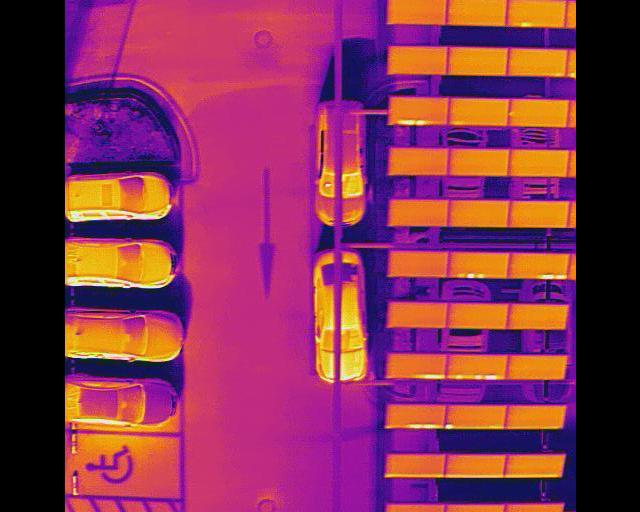Cell: (505, 0, 565, 29), (446, 406, 506, 429)
Cell-Multi: (446, 252, 509, 279), (445, 354, 506, 380)
No-Anomaly: (447, 97, 508, 128), (444, 46, 507, 75), (447, 200, 510, 229), (505, 48, 567, 77), (448, 149, 510, 177), (389, 46, 448, 75), (507, 100, 567, 128), (508, 201, 570, 228), (387, 200, 448, 227), (508, 151, 569, 178), (388, 149, 448, 176), (445, 0, 506, 26), (388, 302, 449, 328), (387, 252, 448, 278), (505, 305, 566, 330), (446, 304, 509, 328), (505, 356, 566, 380), (387, 0, 445, 25), (443, 454, 505, 477), (505, 405, 564, 429), (504, 455, 562, 478), (386, 454, 443, 477), (383, 505, 442, 512), (501, 505, 560, 512), (442, 506, 503, 512)
Unclassified: (388, 97, 449, 126), (508, 254, 568, 280), (386, 354, 448, 379), (386, 405, 445, 428)
